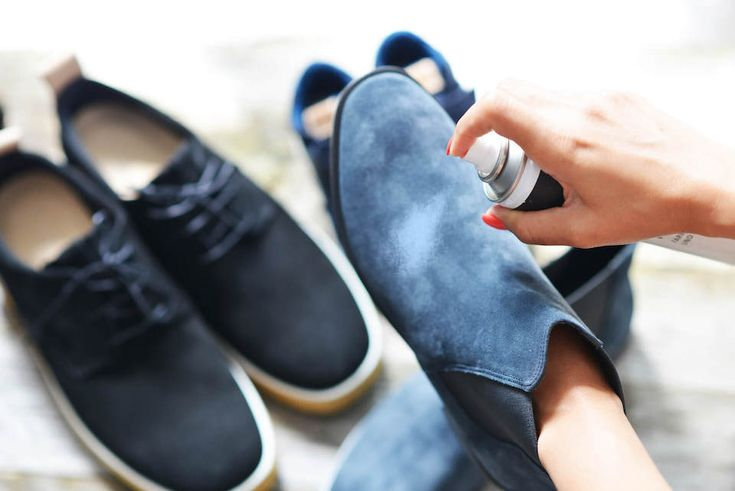gamuza: (340, 70, 627, 491)
